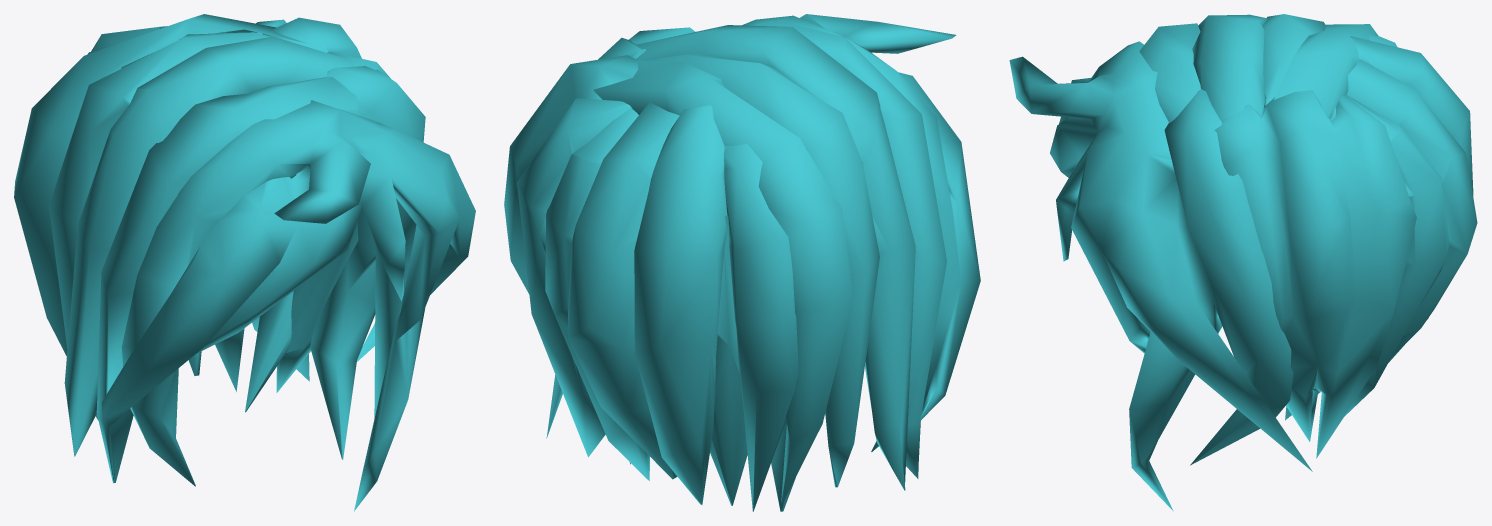
File: hair2.FBX
3 views of the same model, side by side, from view 1: azimuth 30°, elevation 25°; view 2: azimuth 150°, elevation 25°; view 3: azimuth 270°, elevation 25° (orthographic). The views are drawn at different scales.
Visible parts, largest first — view 1: hair2; view 2: hair2; view 3: hair2.
Boxes of the visible parts, x1,y1,x2,y2 form: hair2: [14, 14, 475, 511]; hair2: [504, 14, 980, 511]; hair2: [1009, 14, 1477, 511].
Bounding box in the file's own units: 38.02 × 31.74 × 40.06.
